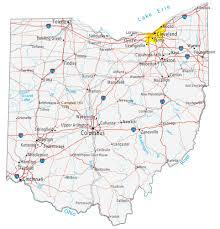ohio: (10, 5, 214, 224)
